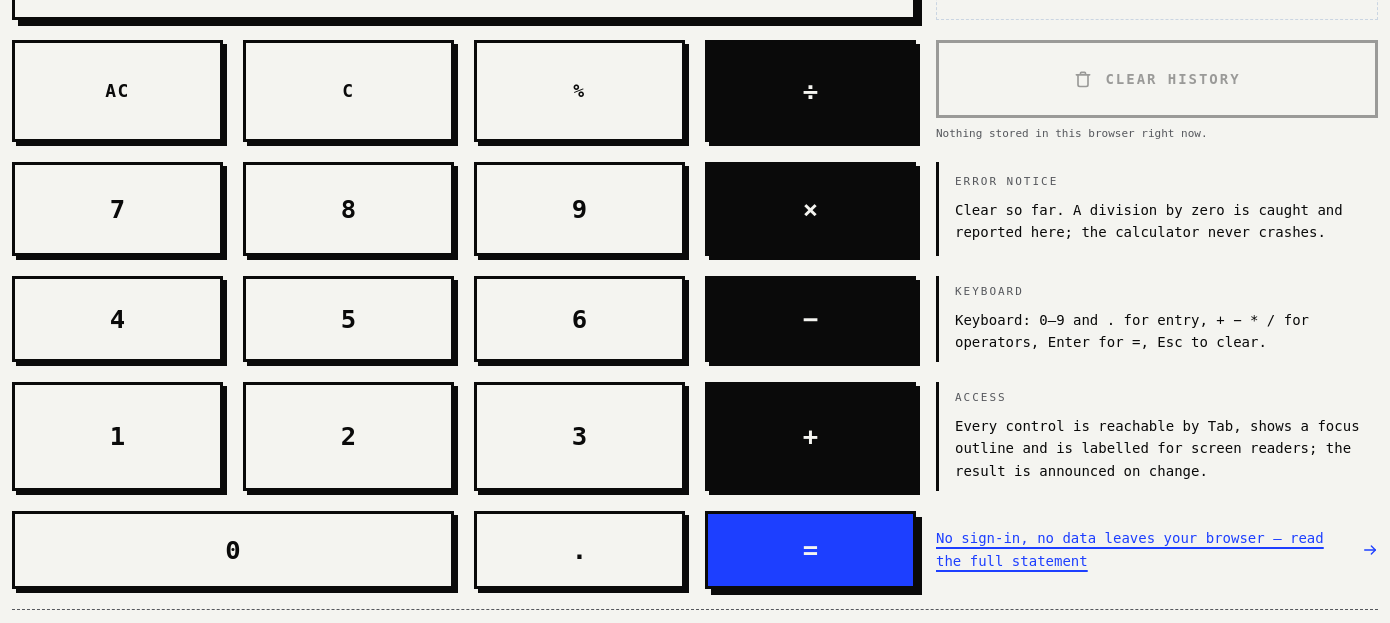
Test: Calculator screen › [AC-013] decimal point key appends a decimal to the entry
(page scrolled)
Click the button "1": [118, 436] box x1=12 y1=382 x2=223 y2=491
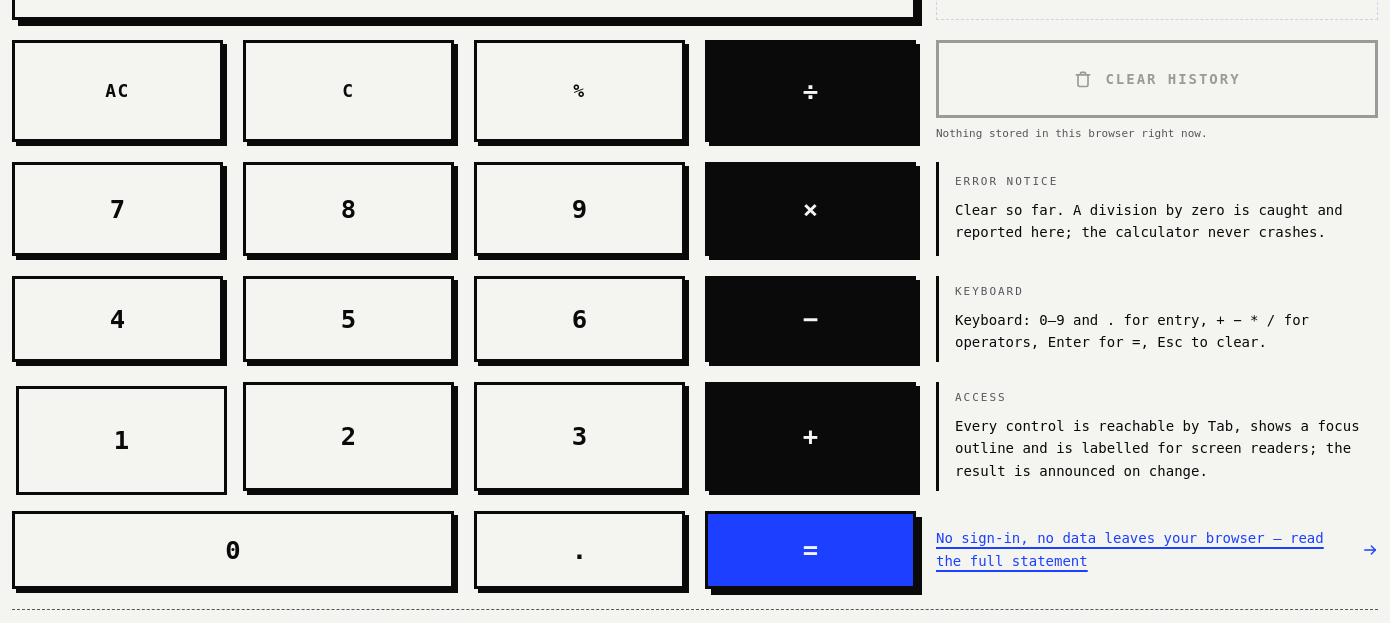
Click the button ".": [580, 550] box x1=474 y1=511 x2=685 y2=589
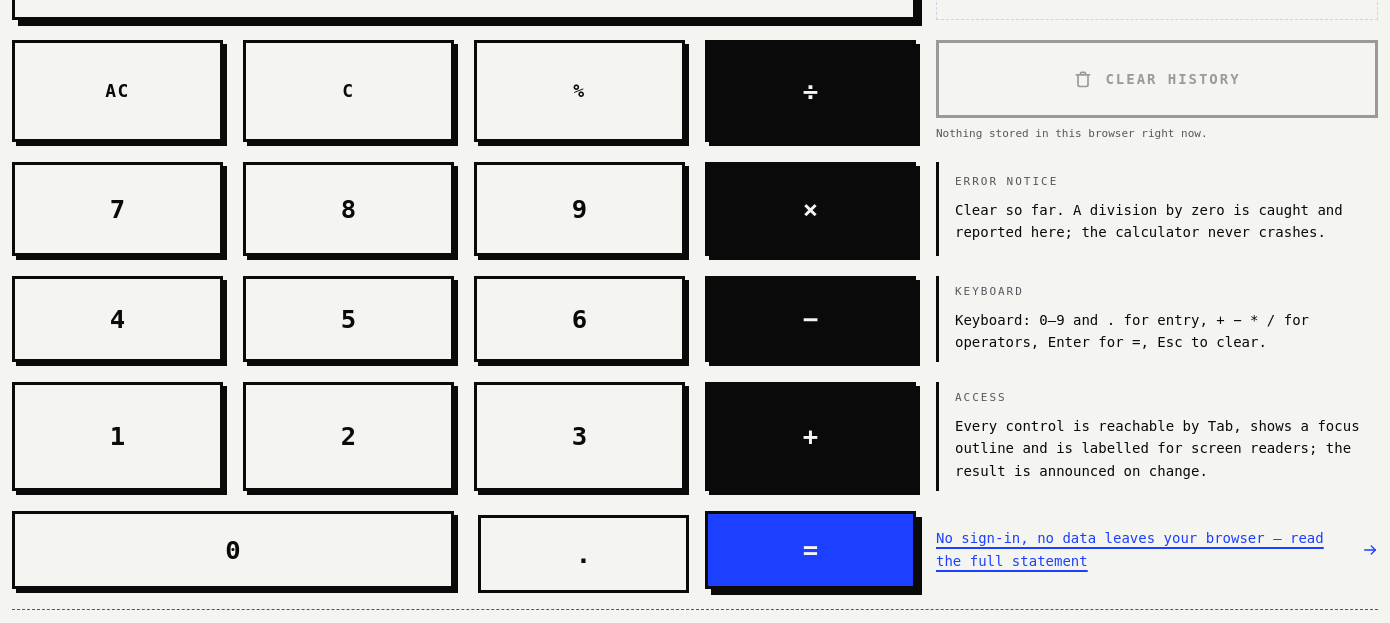
Click the button "5": [348, 319] box x1=243 y1=276 x2=454 y2=362
(page scrolled)
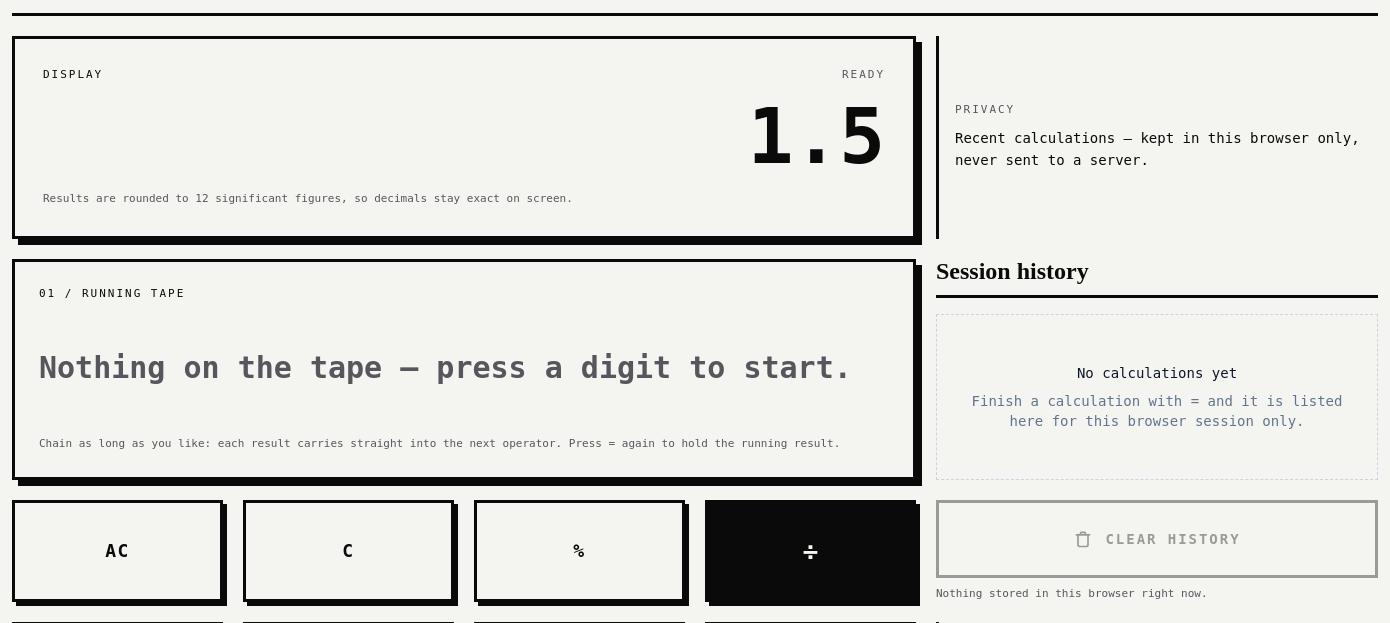
expect the text "1.5" is shown: met, box x1=748 y1=92 x2=885 y2=181
